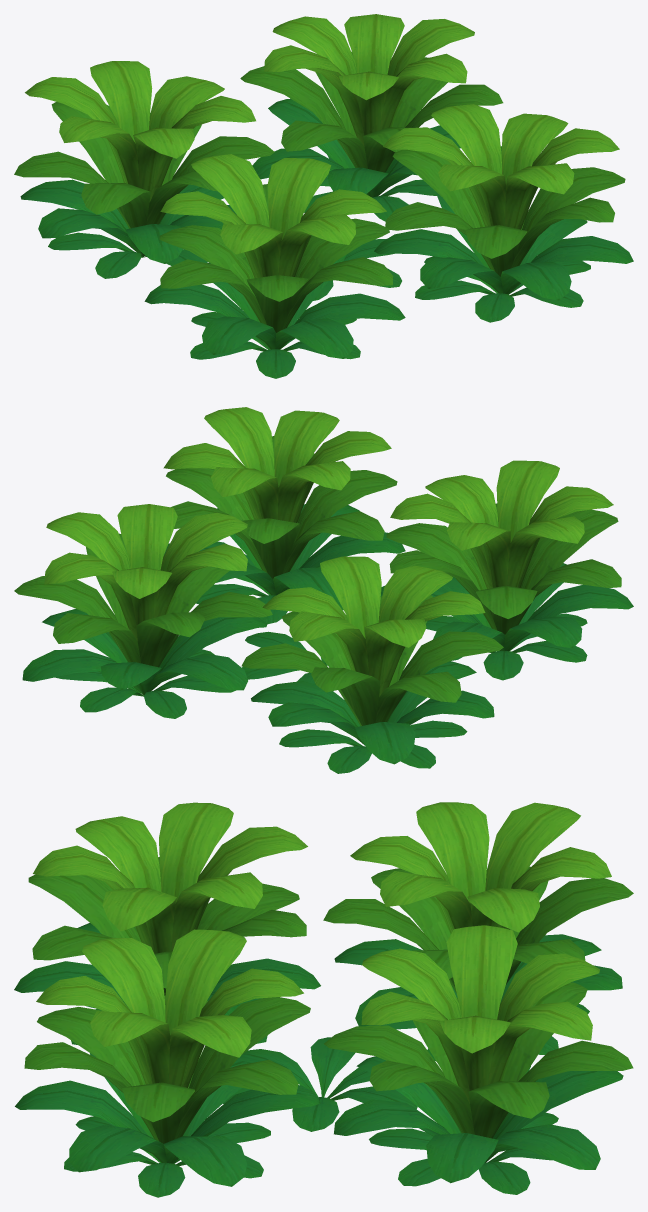
The model's file is Grass.obj.
3 views of the same model, one above another, from view 1: azimuth 30°, elevation 25°; view 2: azimuth 150°, elevation 25°; view 3: azimuth 270°, elevation 25° (orthographic). The views are drawn at different scales.
Parts seen in each view (by area): view 1: GrassTop10__MI_Grass_10, GrassTop11__MI_Grass_11, GrassTop00__MI_Grass_00, GrassTop01__MI_Grass_01, GrassBase11__MI_Grass_11, GrassBase00__MI_Grass_00, GrassBase10__MI_Grass_10, GrassBase01__MI_Grass_01, GrassBase__MI_Grass_01; view 2: GrassTop01__MI_Grass_01, GrassTop00__MI_Grass_00, GrassTop10__MI_Grass_10, GrassTop11__MI_Grass_11, GrassBase00__MI_Grass_00, GrassBase01__MI_Grass_01, GrassBase10__MI_Grass_10, GrassBase__MI_Grass_01, GrassBase11__MI_Grass_11; view 3: GrassTop11__MI_Grass_11, GrassTop01__MI_Grass_01, GrassTop10__MI_Grass_10, GrassTop00__MI_Grass_00, GrassBase__MI_Grass_01, GrassBase01__MI_Grass_01, GrassBase11__MI_Grass_11.
Boxes of the visible parts, left/top/right/bottom form: GrassTop10__MI_Grass_10: left=144, top=154, right=405, bottom=358; GrassTop11__MI_Grass_11: left=374, top=104, right=633, bottom=300; GrassTop00__MI_Grass_00: left=14, top=61, right=274, bottom=263; GrassTop01__MI_Grass_01: left=240, top=14, right=503, bottom=197; GrassBase11__MI_Grass_11: left=415, top=256, right=590, bottom=322; GrassBase00__MI_Grass_00: left=48, top=232, right=207, bottom=278; GrassBase10__MI_Grass_10: left=190, top=312, right=360, bottom=378; GrassBase01__MI_Grass_01: left=304, top=155, right=436, bottom=221; GrassBase__MI_Grass_01: left=311, top=235, right=401, bottom=300; GrassTop01__MI_Grass_01: left=14, top=504, right=272, bottom=695; GrassTop00__MI_Grass_00: left=241, top=556, right=503, bottom=764; GrassTop10__MI_Grass_10: left=380, top=460, right=633, bottom=660; GrassTop11__MI_Grass_11: left=163, top=407, right=405, bottom=602; GrassBase00__MI_Grass_00: left=279, top=706, right=467, bottom=773; GrassBase01__MI_Grass_01: left=55, top=649, right=235, bottom=718; GrassBase10__MI_Grass_10: left=426, top=613, right=587, bottom=680; GrassBase__MI_Grass_01: left=242, top=631, right=327, bottom=684; GrassBase11__MI_Grass_11: left=196, top=566, right=343, bottom=624; GrassTop11__MI_Grass_11: left=15, top=929, right=320, bottom=1186; GrassTop01__MI_Grass_01: left=324, top=925, right=633, bottom=1183; GrassTop10__MI_Grass_10: left=14, top=802, right=320, bottom=1015; GrassTop00__MI_Grass_00: left=323, top=802, right=633, bottom=1026; GrassBase__MI_Grass_01: left=223, top=1037, right=417, bottom=1131; GrassBase01__MI_Grass_01: left=369, top=1112, right=558, bottom=1194; GrassBase11__MI_Grass_11: left=64, top=1116, right=270, bottom=1197.
Size of the model in its own units: 3.02 by 1.03 by 2.99.
